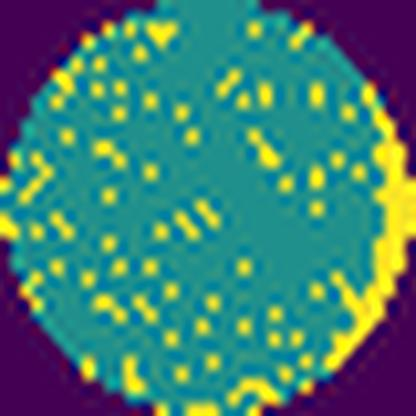Edge-Loc: (321, 99, 415, 375)
